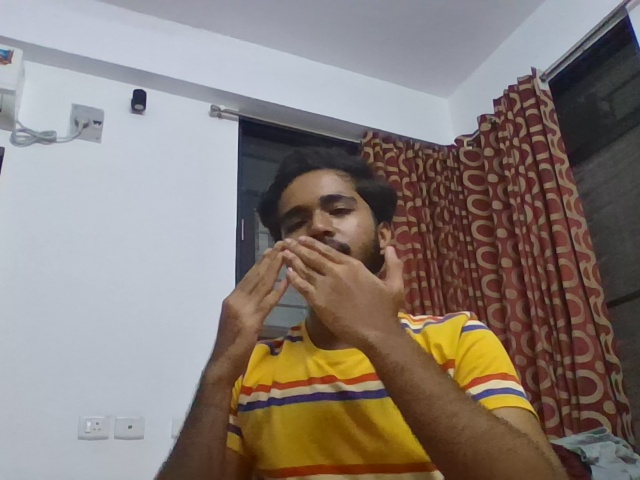Thank You: (181, 231, 480, 392)
